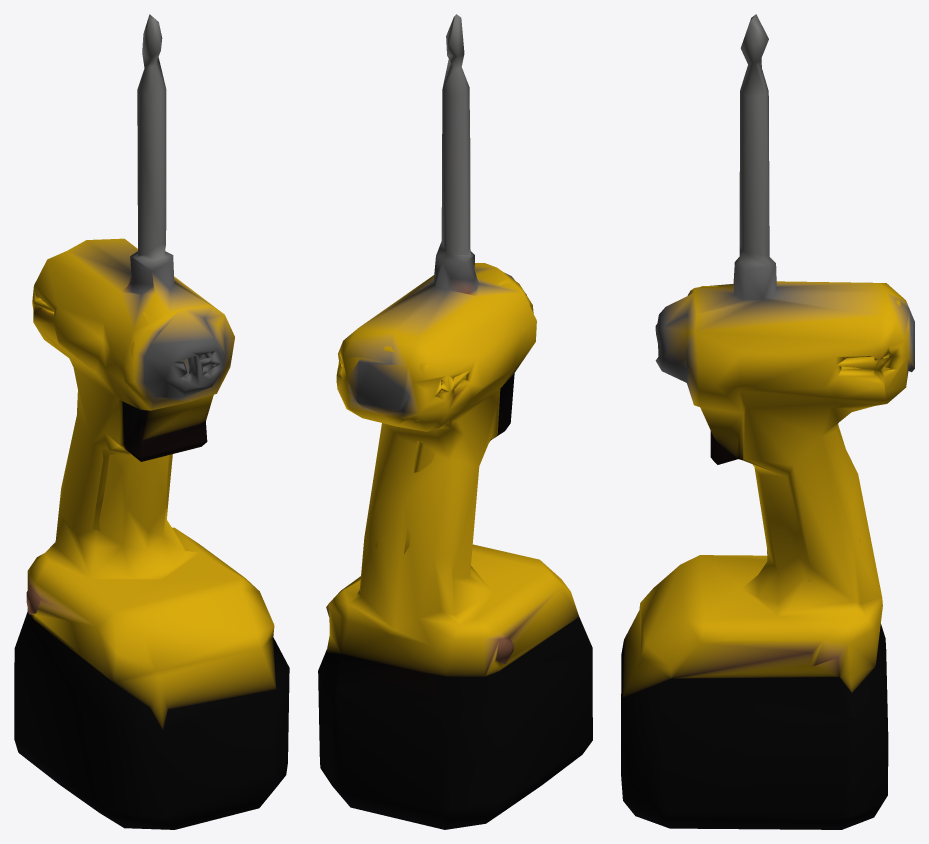
The model's file is gen3d-drill-lod1.glb.
3 views of the same model, side by side, from view 1: azimuth 30°, elevation 25°; view 2: azimuth 150°, elevation 25°; view 3: azimuth 270°, elevation 25° (orthographic). The views are drawn at different scales.
Visible parts, largest first — view 1: part_0; view 2: part_0; view 3: part_0.
Boxes of the visible parts, box(x1,y1,x2,y2) form: part_0: box(14, 14, 289, 829); part_0: box(318, 14, 592, 829); part_0: box(621, 14, 914, 829).
Size of the model in its own units: 0.2505 by 0.9989 by 0.3392.
